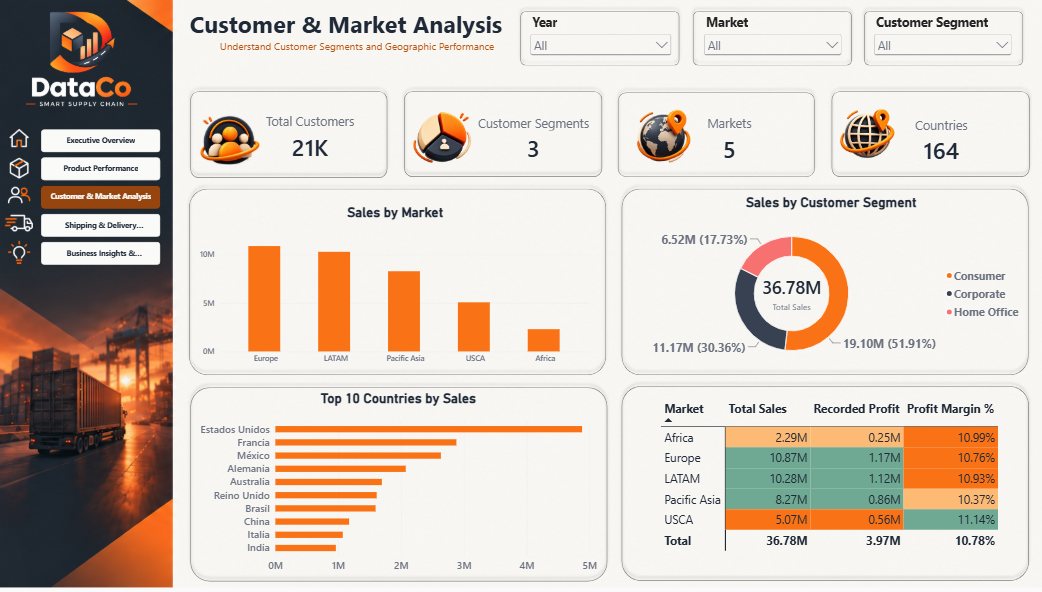

What the dashboard file says about the page in this screenshot:
{"tool":"powerbi","page":{"name":"Customer & Market Analysis","canvas":[1920,1080],"ordinal":2},"visuals":[{"type":"image","box":[0,19.2,491.9,287.8],"z":0},{"type":"textbox","box":[430.8,80.2,535.5,118.6],"z":1000},{"type":"shape","box":[1111,676.7,669.8,329.7],"z":2000},{"type":"shape","box":[1112.3,360.7,669,316.4],"z":3000},{"type":"shape","box":[421.2,677.1,685.1,328.5],"z":4000},{"type":"shape","box":[419.1,360.7,685.1,316.4],"z":5000},{"type":"clusteredBarChart","title":"Top 10 Countries by Sales","fields":{"Category":["FactOrderItems.Order Country"],"Y":["Measures_.Total Sales"]},"box":[429.9,678.3,667.8,325.6],"z":6000},{"type":"donutChart","title":"Sales by Customer Segment","fields":{"Category":["DimCustomer.Customer Segment"],"Y":["Measures_.Total Sales"]},"box":[1131.1,363.1,649,306.8],"z":7000},{"type":"shape","box":[422.1,204.1,333.1,157],"z":8000},{"type":"shape","box":[763.4,204.1,334.9,155.2],"z":9000},{"type":"shape","box":[1106.4,205.8,333.1,153.5],"z":10000},{"type":"shape","box":[1447.7,204.1,334.9,155.2],"z":11000},{"type":"cardVisual","fields":{"Data":["Measures_.Total Customers"]},"box":[505.8,216.3,233.7,143],"z":12000},{"type":"cardVisual","fields":{"Data":["Count(FactOrderItems.Market)"]},"box":[1161.2,220,263.8,141.2],"z":13000},{"type":"cardVisual","fields":{"Data":["Count(DimCustomer.Customer Segment)"]},"box":[873.8,219.8,212.8,139.5],"z":14000},{"type":"cardVisual","fields":{"Data":["Count(FactOrderItems.Order Country)"]},"box":[1496.5,223.3,273.8,139.5],"z":15000},{"type":"image","box":[783.1,226.7,102.9,109.9],"z":16000},{"type":"image","box":[1132,230.2,115.1,102.9],"z":17000},{"type":"image","box":[1466.9,226.7,108.1,111.6],"z":18000},{"type":"image","box":[429.1,230.2,113.4,116.9],"z":19000},{"type":"shape","box":[1500,75,272.5,105],"z":20000},{"type":"shape","box":[1225,75,272.5,105],"z":21000},{"type":"shape","box":[950,75,272.5,105],"z":22000},{"type":"slicer","fields":{"Values":["DimDate.Year"]},"box":[970,87.5,235,82.5],"z":23000},{"type":"slicer","fields":{"Values":["FactOrderItems.Market"]},"box":[1247.5,87.5,230,80],"z":24000},{"type":"slicer","fields":{"Values":["DimCustomer.Customer Segment"]},"box":[1520.9,87.2,230,80],"z":25000},{"type":"clusteredColumnChart","title":"Sales by Market","fields":{"Category":["FactOrderItems.Market"],"Y":["Measures_.Total Sales"]},"box":[429.9,379.8,657.4,290.1],"z":26000},{"type":"pivotTable","fields":{"Rows":["FactOrderItems.Market"],"Values":["Measures_.Total Sales","Measures_.Total Profit","Measures_.Profit Margin %"]},"box":[1168.7,690.8,573.9,300.5],"z":27000},{"type":"image","box":[0,202.3,382,359.3],"z":28000},{"type":"pageNavigator","box":[191.9,273.8,191.9,219.8],"z":29000}]}

Visuals, with their boxes on the page's 1920x1080 design canvas (x1, y1, x2, y2). These are canvas units, not pixel positions in the 1042x592 screenshot, which may show the page scaled, cropped or inside an application window:
image: [x1=0, y1=19, x2=492, y2=307]
textbox: [x1=431, y1=80, x2=966, y2=199]
shape: [x1=1111, y1=677, x2=1781, y2=1006]
shape: [x1=1112, y1=361, x2=1781, y2=677]
shape: [x1=421, y1=677, x2=1106, y2=1006]
shape: [x1=419, y1=361, x2=1104, y2=677]
"Top 10 Countries by Sales" clusteredBarChart: [x1=430, y1=678, x2=1098, y2=1004]
"Sales by Customer Segment" donutChart: [x1=1131, y1=363, x2=1780, y2=670]
shape: [x1=422, y1=204, x2=755, y2=361]
shape: [x1=763, y1=204, x2=1098, y2=359]
shape: [x1=1106, y1=206, x2=1440, y2=359]
shape: [x1=1448, y1=204, x2=1783, y2=359]
cardVisual - Measures_.Total Customers: [x1=506, y1=216, x2=740, y2=359]
cardVisual - Count(FactOrderItems.Market): [x1=1161, y1=220, x2=1425, y2=361]
cardVisual - Count(DimCustomer.Customer Segment): [x1=874, y1=220, x2=1087, y2=359]
cardVisual - Count(FactOrderItems.Order Country): [x1=1496, y1=223, x2=1770, y2=363]
image: [x1=783, y1=227, x2=886, y2=337]
image: [x1=1132, y1=230, x2=1247, y2=333]
image: [x1=1467, y1=227, x2=1575, y2=338]
image: [x1=429, y1=230, x2=542, y2=347]
shape: [x1=1500, y1=75, x2=1772, y2=180]
shape: [x1=1225, y1=75, x2=1498, y2=180]
shape: [x1=950, y1=75, x2=1222, y2=180]
slicer - DimDate.Year: [x1=970, y1=88, x2=1205, y2=170]
slicer - FactOrderItems.Market: [x1=1248, y1=88, x2=1478, y2=168]
slicer - DimCustomer.Customer Segment: [x1=1521, y1=87, x2=1751, y2=167]
"Sales by Market" clusteredColumnChart: [x1=430, y1=380, x2=1087, y2=670]
pivotTable - FactOrderItems.Market x Measures_.Total Sales: [x1=1169, y1=691, x2=1743, y2=991]
image: [x1=0, y1=202, x2=382, y2=562]
pageNavigator: [x1=192, y1=274, x2=384, y2=494]
